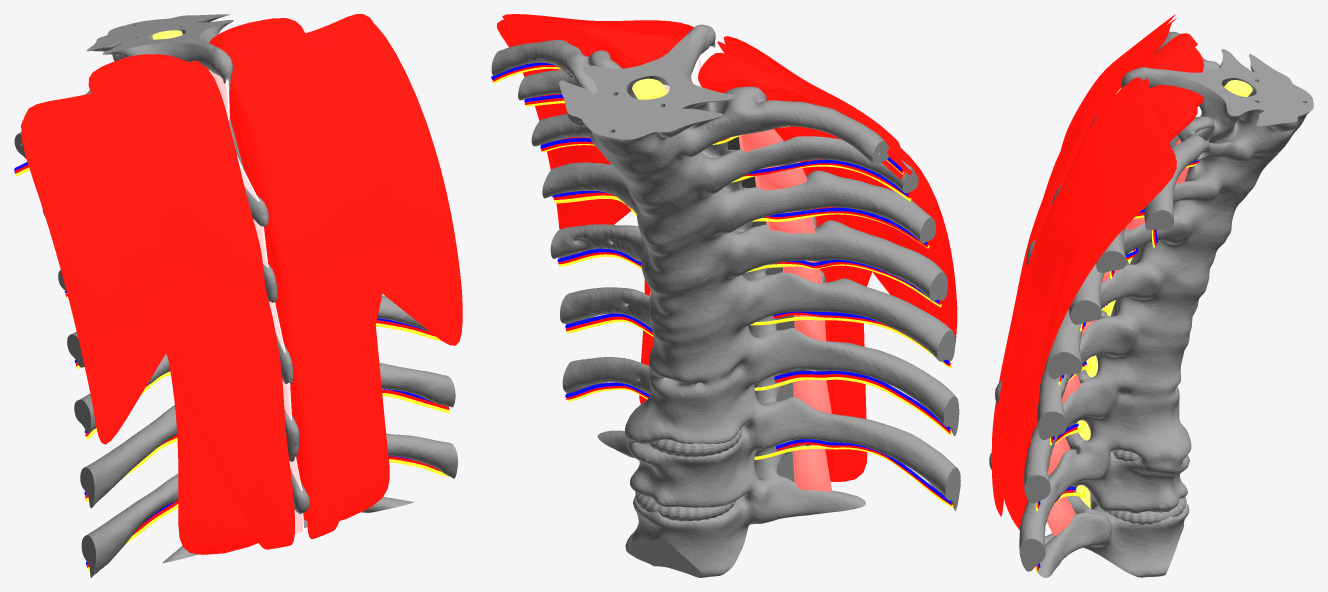
Rendered from RA sim Isaac Anatomy.fbx.
3 renders of one model, left to right at view 1: azimuth 30°, elevation 25°; view 2: azimuth 150°, elevation 25°; view 3: azimuth 270°, elevation 25°, orthographic. The views are drawn at different scales.
Visible parts, largest first — view 1: Left Trapezius, Right Trapezius, Skeleton, Left Rhomboid, Right Rhomboid, Right Erector Spinae, Left Erector Spinae; view 2: Skeleton, Left Erector Spinae, Left Rhomboid, Right Rhomboid, Right Erector Spinae, Left Trapezius, Right Trapezius, 7L SCTL, 6V Mesh, 7V Mesh, 6L SCTL, 6N Mesh (+15 smaller); view 3: Skeleton, Right Trapezius, Right Rhomboid, Left Trapezius, Right Erector Spinae, Left Erector Spinae, Dura Easy Mesh, 7R SCTL, Left Rhomboid.
Boxes of the visible parts, x1,y1,x2,y2 form: Left Trapezius: [25, 61, 294, 549]; Right Trapezius: [230, 14, 399, 538]; Skeleton: [14, 14, 457, 577]; Left Rhomboid: [21, 60, 201, 444]; Right Rhomboid: [225, 24, 462, 345]; Right Erector Spinae: [209, 18, 389, 521]; Left Erector Spinae: [88, 54, 258, 554]; Skeleton: [491, 24, 960, 577]; Left Erector Spinae: [698, 52, 867, 481]; Left Rhomboid: [717, 41, 957, 360]; Right Rhomboid: [497, 18, 687, 254]; Right Erector Spinae: [571, 27, 679, 404]; Left Trapezius: [723, 36, 900, 286]; Right Trapezius: [502, 14, 693, 32]; 7L SCTL: [792, 444, 832, 491]; 6V Mesh: [565, 313, 950, 430]; 7V Mesh: [565, 382, 951, 504]; 6L SCTL: [793, 370, 831, 413]; 6N Mesh: [566, 319, 951, 435]; Skeleton: [989, 31, 1313, 577]; Right Trapezius: [991, 77, 1175, 516]; Right Rhomboid: [1030, 78, 1176, 443]; Left Trapezius: [991, 14, 1175, 452]; Right Erector Spinae: [1004, 85, 1203, 530]; Left Erector Spinae: [1146, 33, 1203, 72]; Dura Easy Mesh: [1076, 80, 1252, 508]; 7R SCTL: [1047, 493, 1076, 536]; Left Rhomboid: [1043, 18, 1176, 196].
Size of the model in its own units: 17.55 by 21.78 by 13.1.
